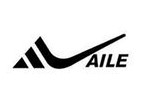adidas Fake: (10, 34, 130, 73)
